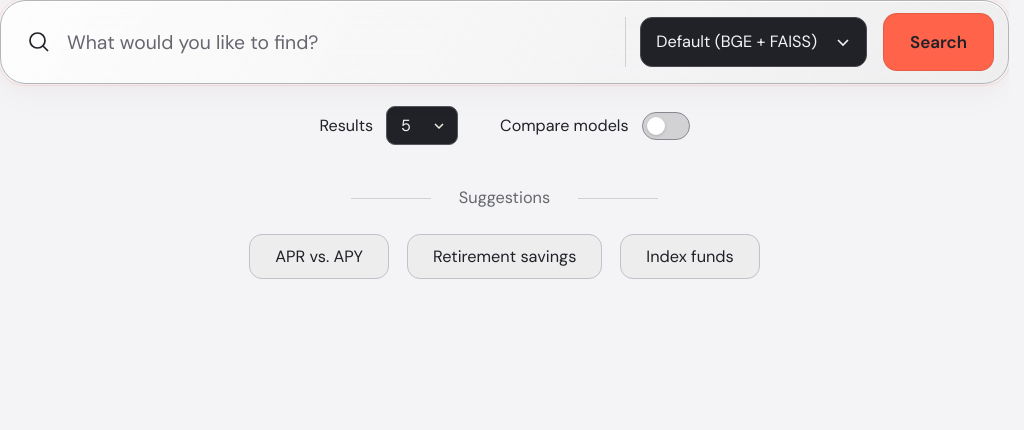
Scenario: Formulario accesible › exige dos modelos para comparar
Click the checkbox labelled "Compare models" at (595, 126), box [500,112,690,140]
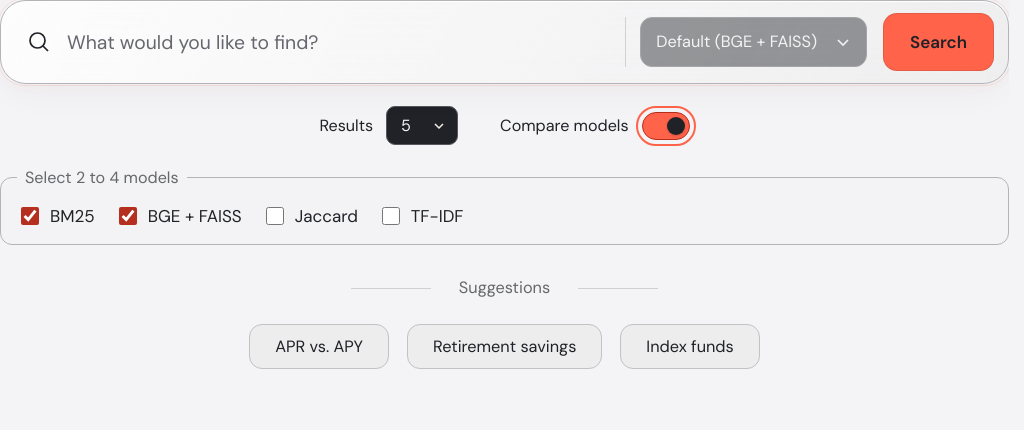
Click the checkbox labelled "BM25" at (30, 216), box [21,207,39,225]
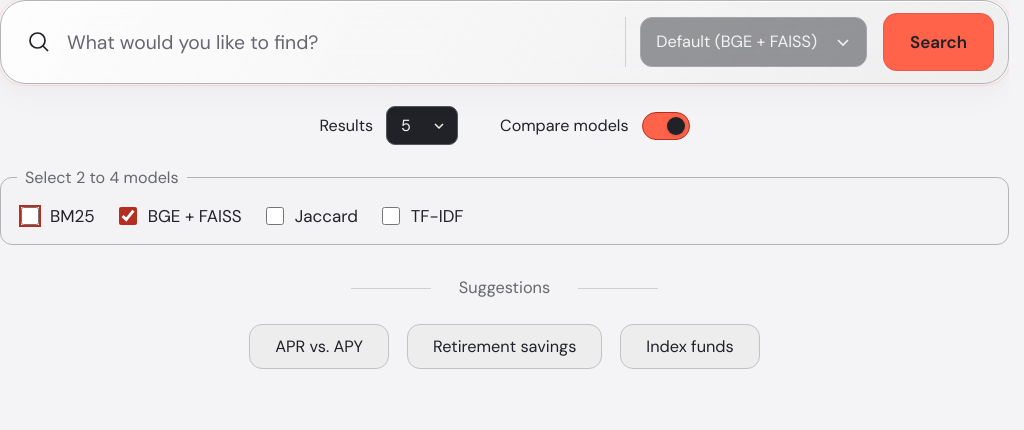
Type "banks" into the field named "Query" at (338, 42), box [67,16,609,68]
Then press Enter
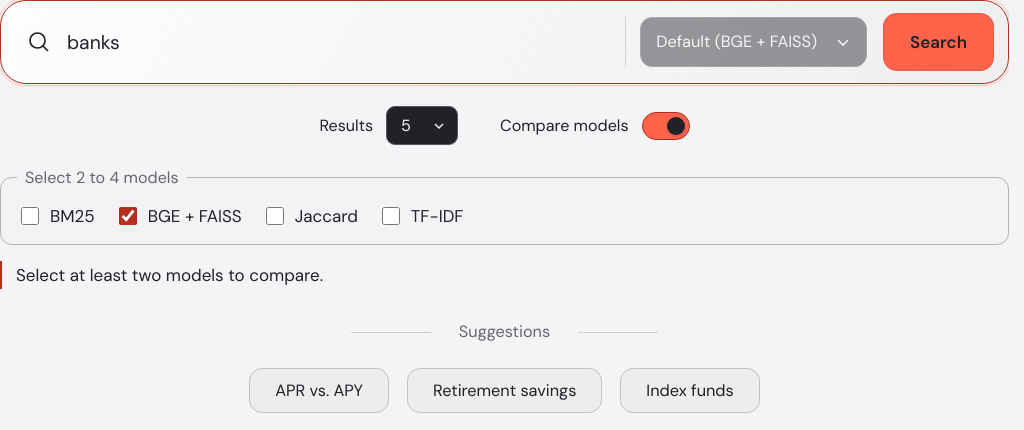
Now the message shows "Select at least two", box [16,264,323,286]
